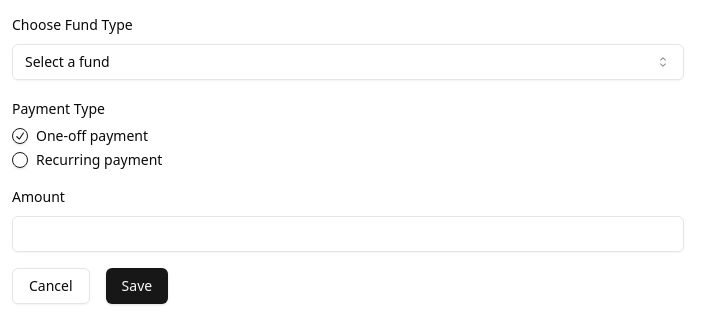
Test case: ApplyForm › Fund Selection › should display all available fund options
The image size is (713, 322).
Expected: the text "Select a fund" is shown, [25,52,110,72]
Click the dropdown named "FundType": point(67, 62) [12,44,684,80]
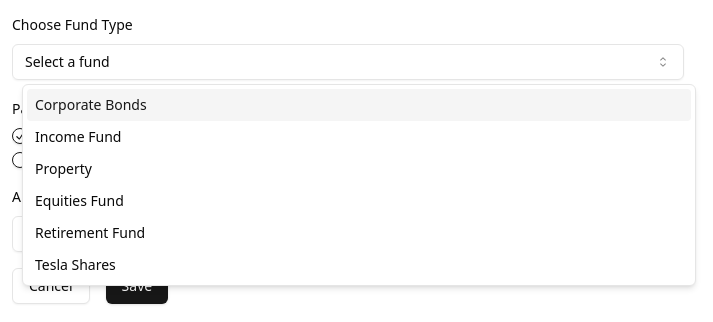
Expected: the option "Corporate Bonds" is shown, [27,89,691,121]
Expected: the option "Income Fund" is shown, [35,127,121,146]
Expected: the option "Property" is shown, [35,159,92,178]
